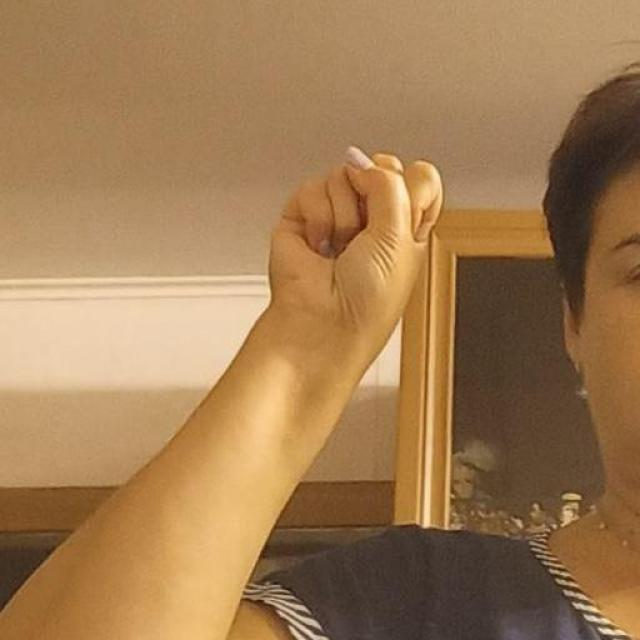hand: (264, 144, 446, 371)
